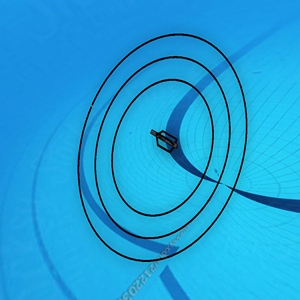circle: (77, 32, 248, 263)
submarine: (147, 125, 179, 152)
